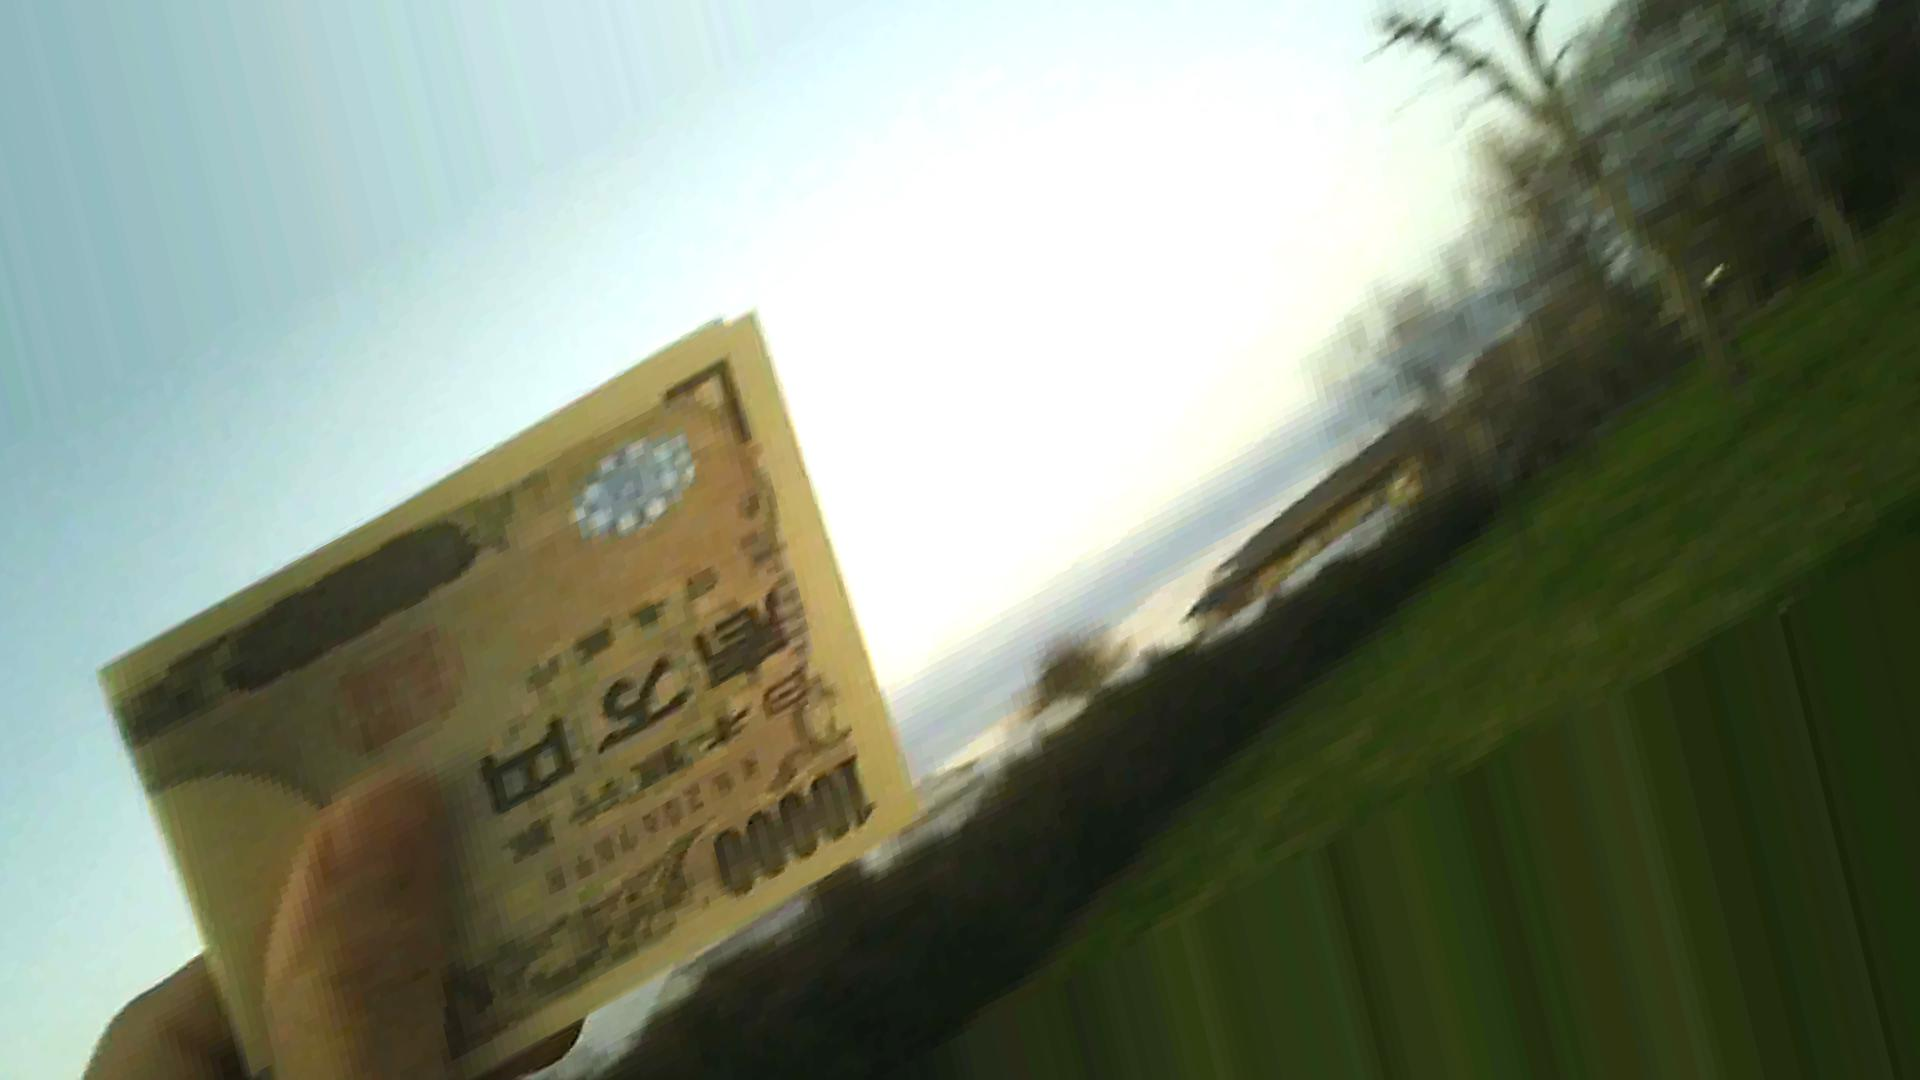10,000 Yen: (49, 284, 955, 1079)
